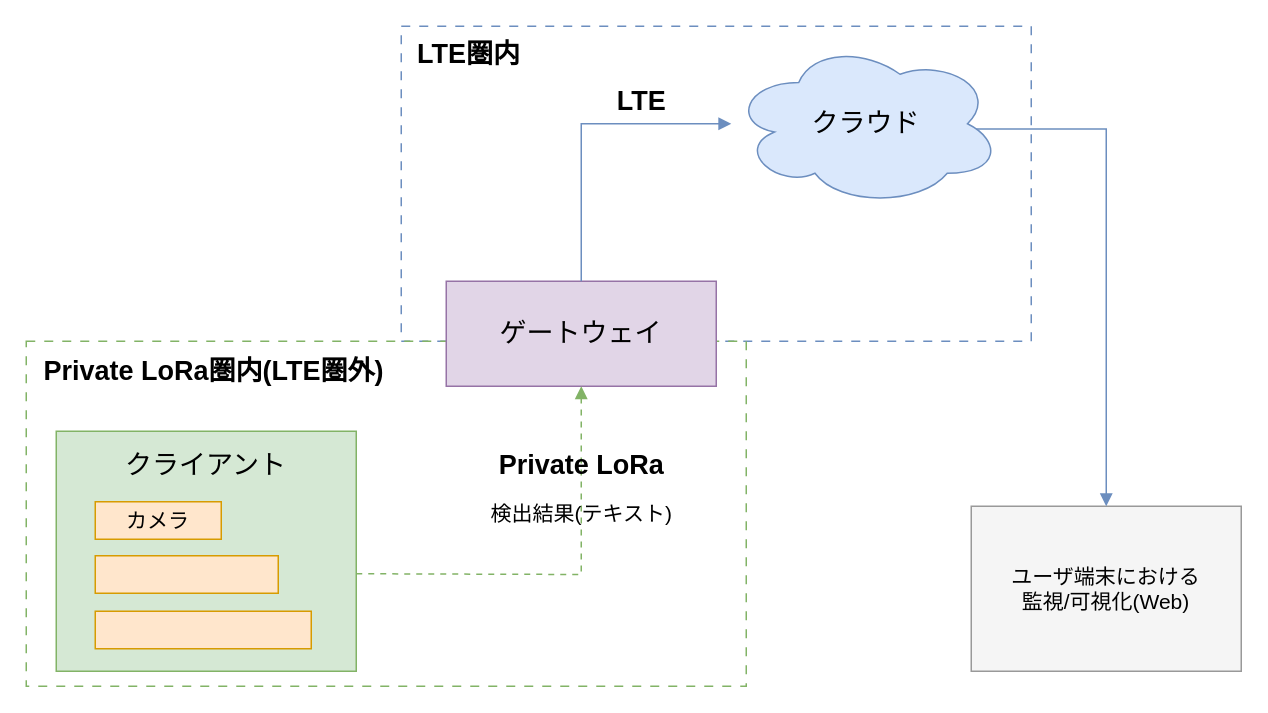
Image size: 1268x713. Some labels were removed from this diagram. The shapes that lost their labels are listed below. From the top down, each one's box as (x1, y1, x2, y2) in pixels, then its label:
(94, 554, 278, 593): YOLO(物体検出)
(94, 610, 311, 649): LoRa通信(テキスト)
